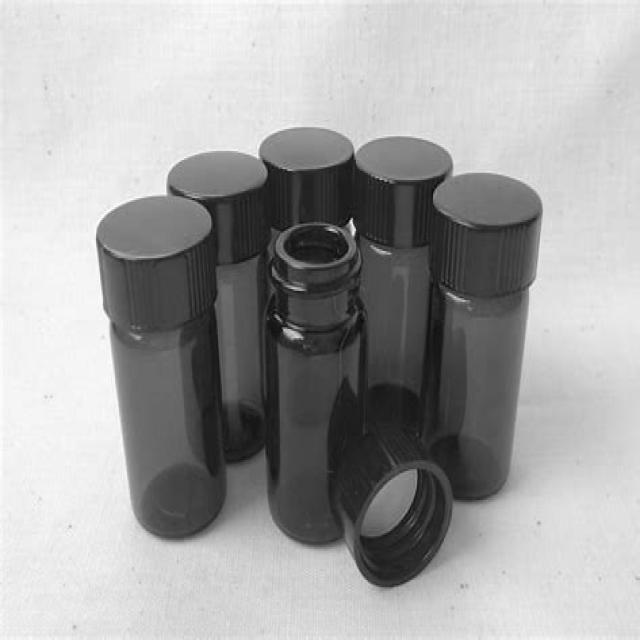vial: (433, 166, 537, 250), (95, 208, 209, 272), (271, 223, 385, 279), (261, 125, 355, 188), (358, 126, 448, 190), (168, 154, 267, 208)
